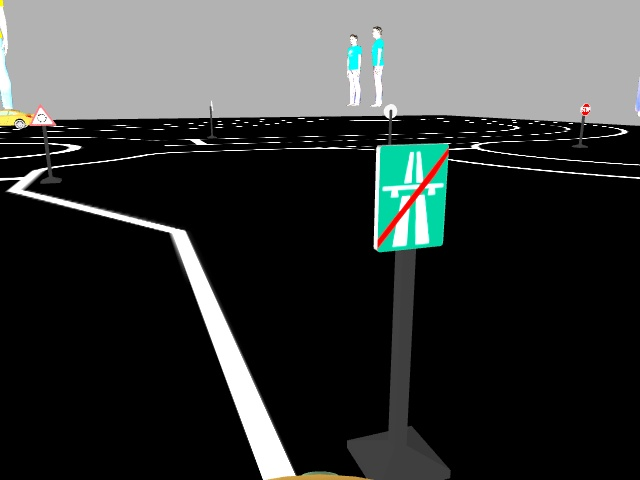HighwayExit: (371, 141, 445, 249)
